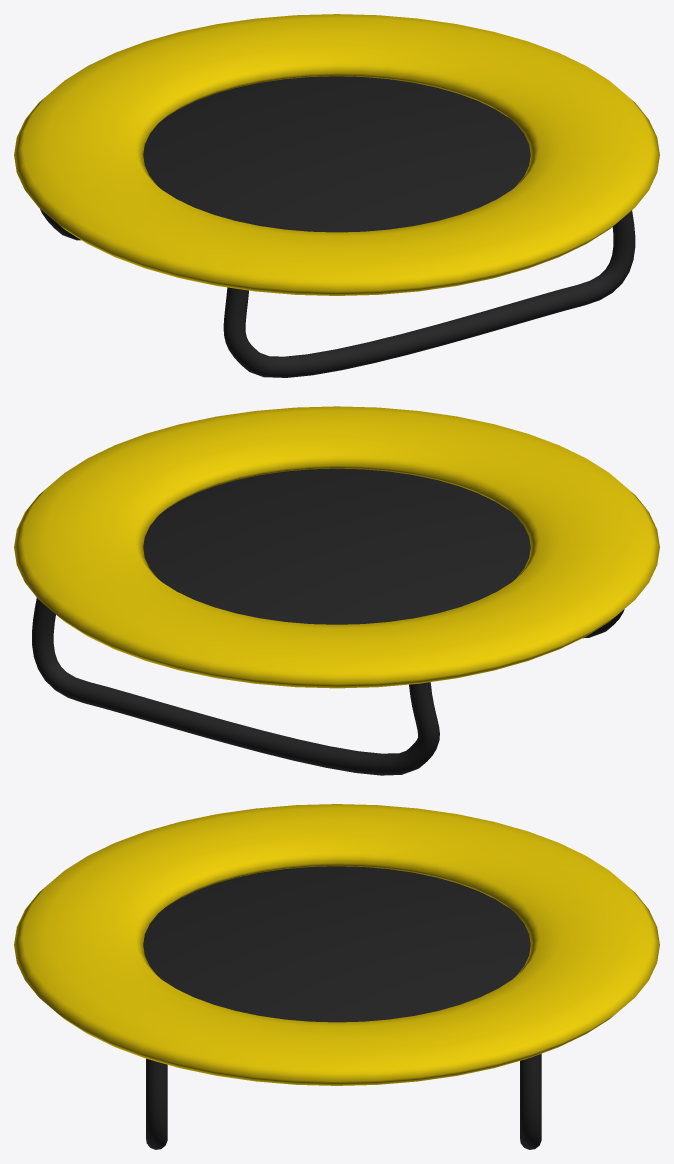
The model's file is trampoline.fbx.
3 views of the same model, one above another, from view 1: azimuth 30°, elevation 25°; view 2: azimuth 150°, elevation 25°; view 3: azimuth 270°, elevation 25° (orthographic).
Visible parts, largest first — view 1: Torus; view 2: Torus; view 3: Torus.
Boxes of the visible parts, x1,y1,x2,y2 form: Torus: [14, 14, 659, 377]; Torus: [14, 406, 659, 775]; Torus: [14, 804, 659, 1149].
Size of the model in its own units: 787 by 194 by 787.
